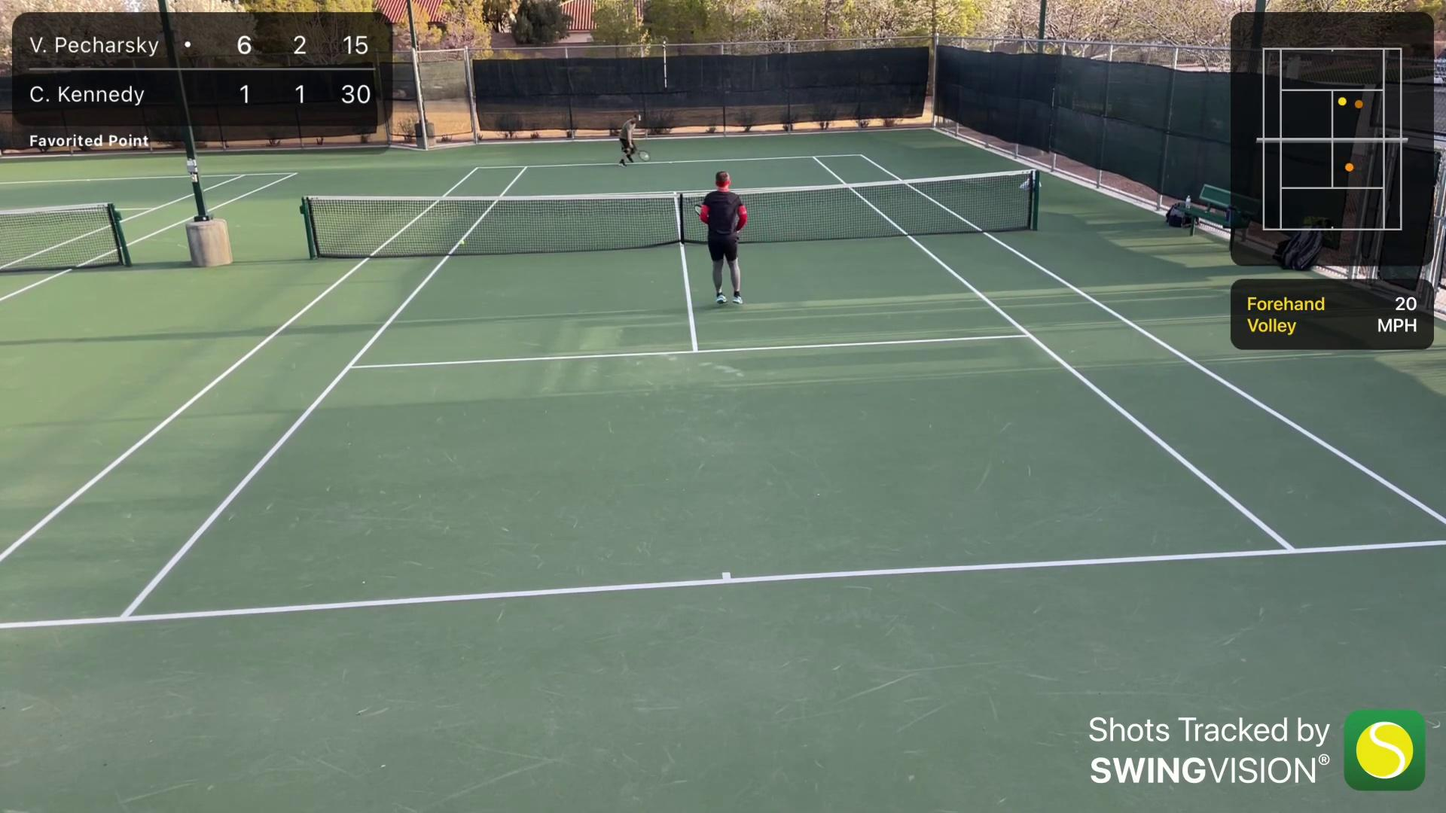ball: (642, 154, 649, 159)
